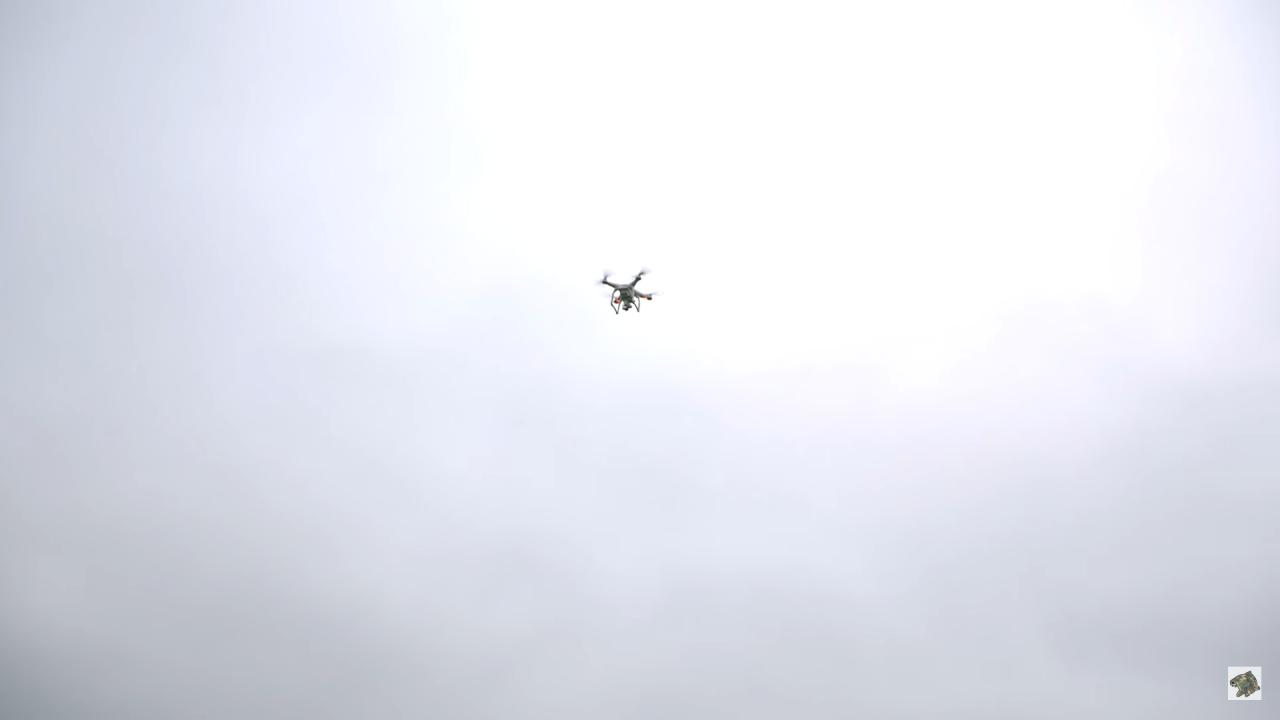Drone: (582, 258, 672, 326)
